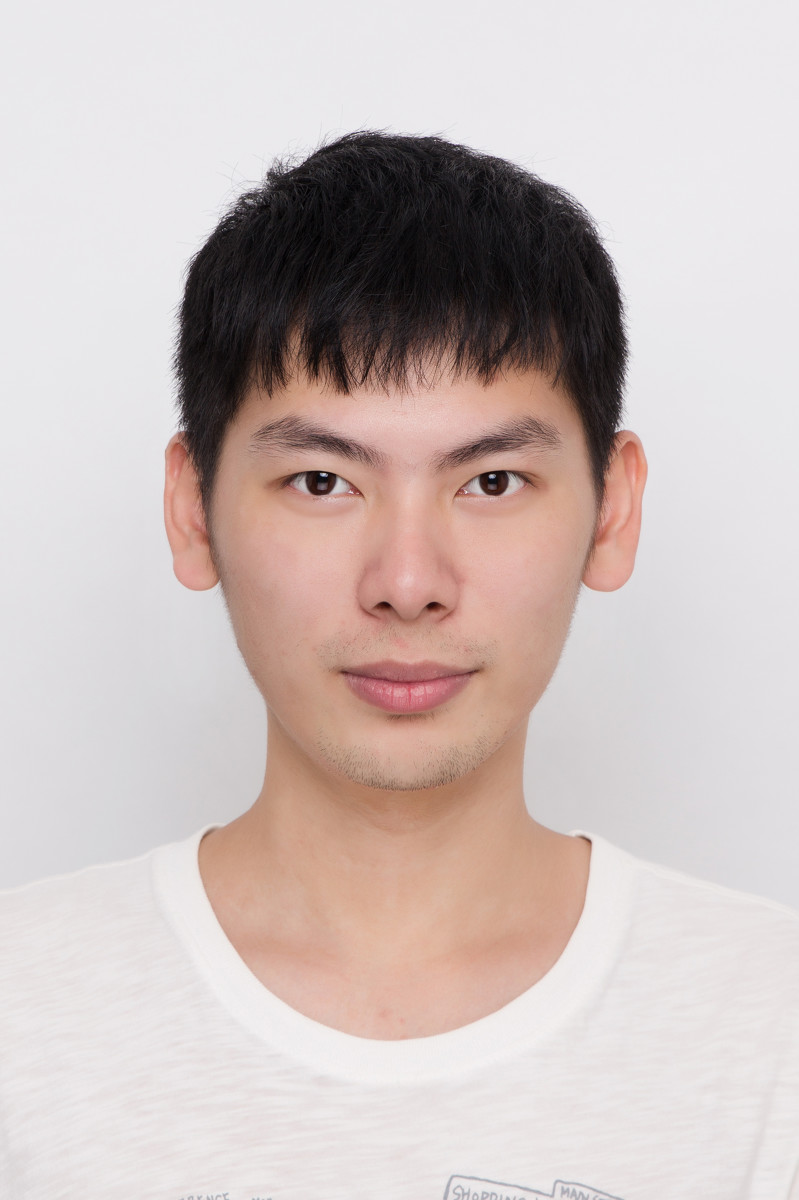unmask: (240, 348, 572, 780)
